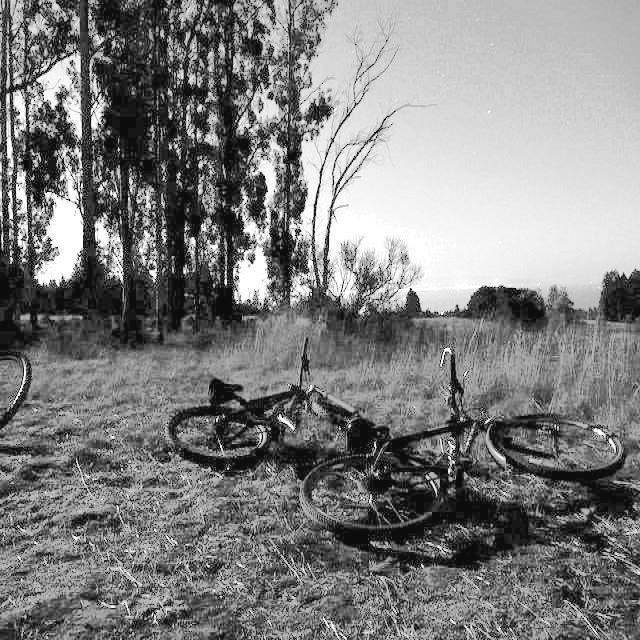Bicycle: (342, 327, 640, 555), (148, 352, 441, 567)
